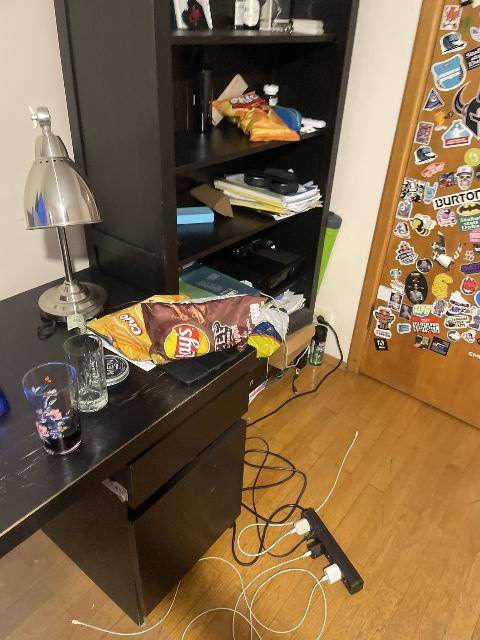Chio Cascaval 125g: (211, 91, 300, 143)
Chio Hula Hoops Cheese 70g: (86, 294, 197, 360)
Lays Beef Grilled Ribs 125g: (143, 296, 267, 361)
